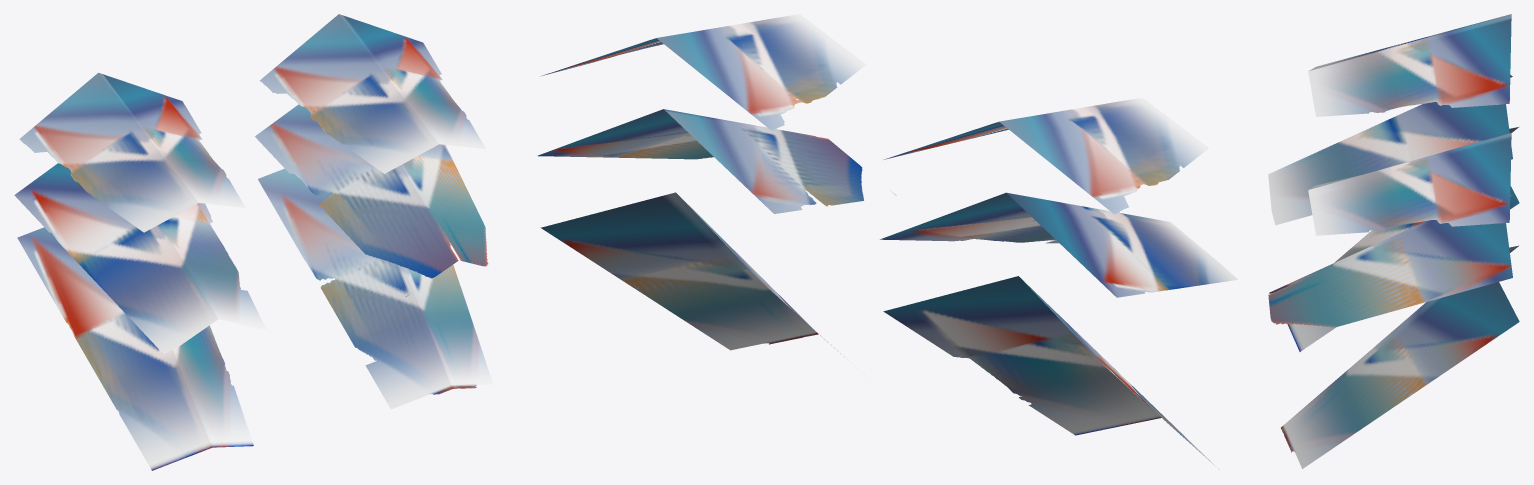
The model's file is memory_3.obj.
3 renders of one model, left to right at view 1: azimuth 30°, elevation 25°; view 2: azimuth 150°, elevation 25°; view 3: azimuth 270°, elevation 25°, orthographic. The views are drawn at different scales.
Parts seen in each view (by area): view 1: tale_R_down, tale_L_down, tale_L_mid, tale_R_up, tale_L_up, tale_R_mid; view 2: tale_L_down, tale_R_down, tale_L_mid, tale_R_mid, tale_L_up, tale_R_up; view 3: tale_R_mid, tale_R_down, tale_L_up, tale_R_up, tale_L_mid, tale_L_down.
Part boxes in pixels (box(x1,y1,x2,y2)): tale_R_down: box(258, 168, 493, 409); tale_L_down: box(17, 227, 253, 470); tale_L_mid: box(14, 163, 265, 353); tale_R_up: box(259, 14, 485, 173); tale_L_up: box(19, 72, 245, 232); tale_R_mid: box(255, 104, 488, 296); tale_L_down: box(883, 276, 1219, 469); tale_R_down: box(540, 192, 854, 366); tale_L_mid: box(880, 192, 1237, 297); tale_R_mid: box(537, 109, 896, 213); tale_L_up: box(883, 97, 1208, 214); tale_R_up: box(542, 14, 866, 130); tale_R_mid: box(1268, 193, 1512, 327); tale_R_down: box(1281, 245, 1519, 468); tale_L_up: box(1308, 14, 1511, 116); tale_R_up: box(1308, 133, 1511, 235); tale_L_mid: box(1268, 75, 1512, 225); tale_L_down: box(1287, 127, 1519, 351).
Size of the model in its own units: 154 by 112 by 81.38.
Materials: 1 (1 with a texture image).
